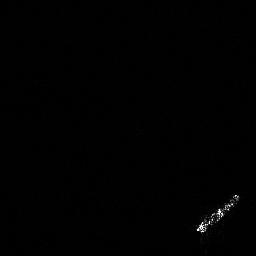ship: (192, 190, 242, 236)
